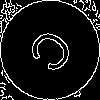C: (25, 25, 84, 83)
